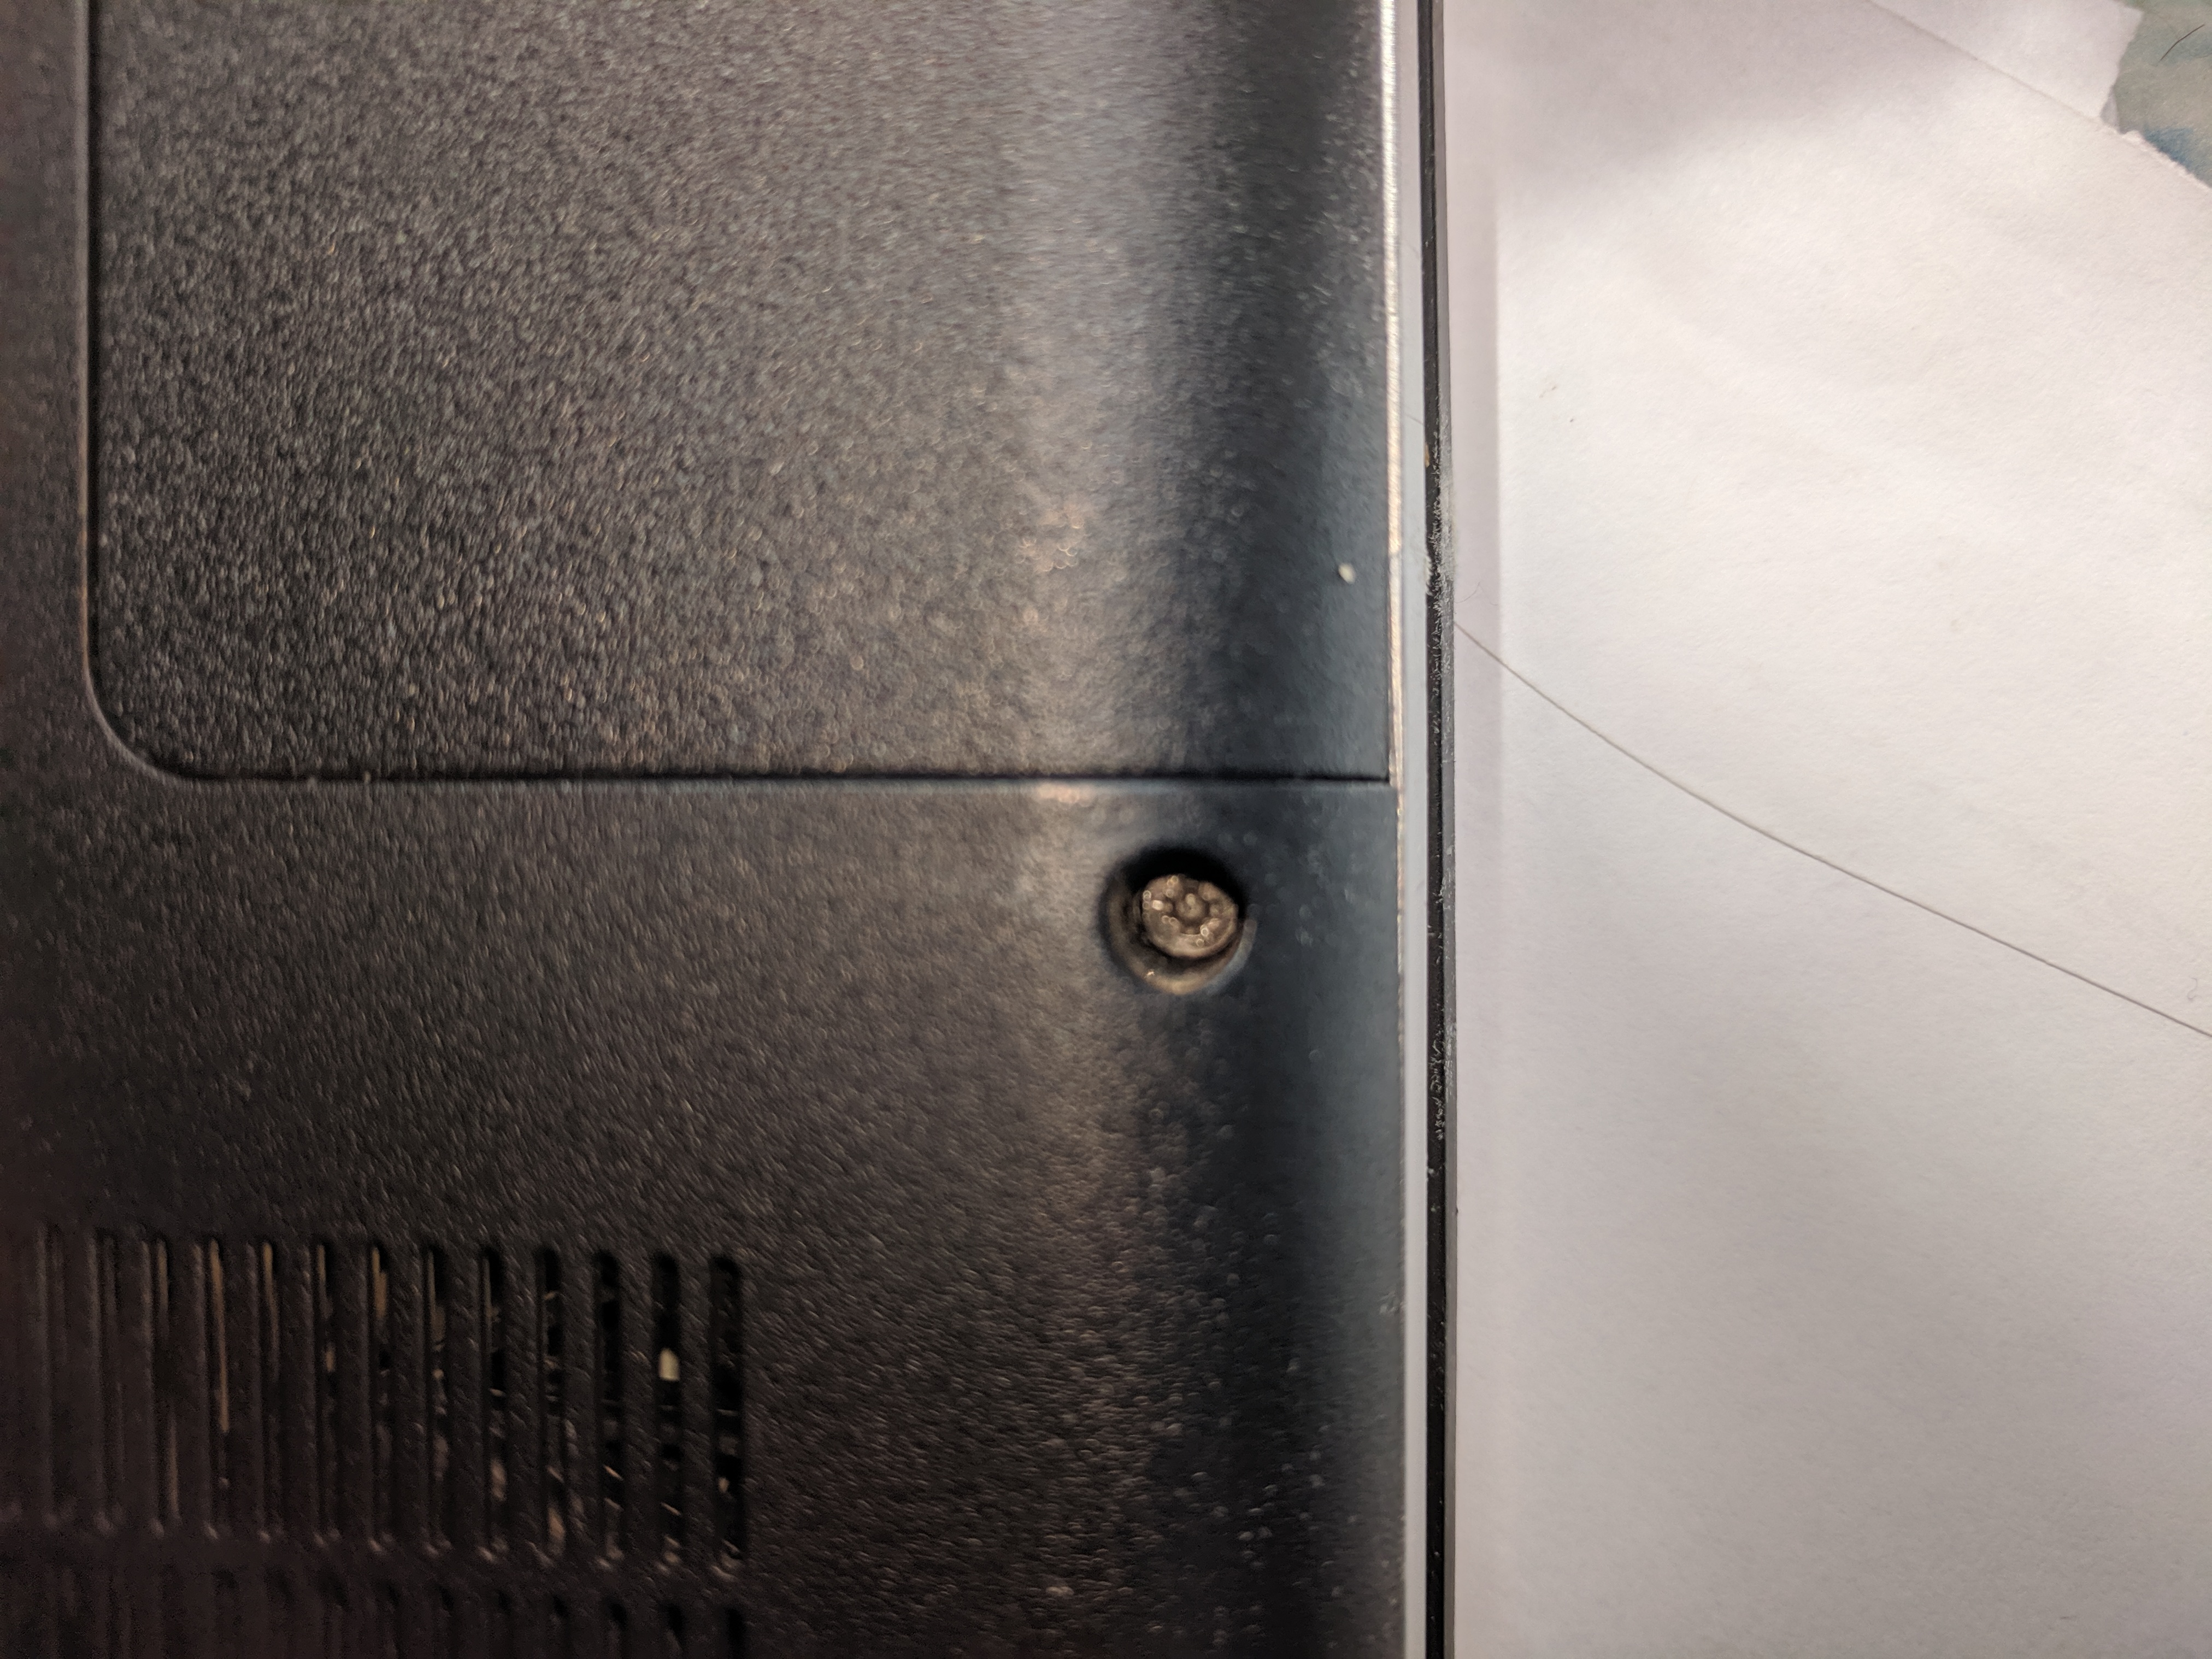cross_recessed_screw: (1120, 840, 1244, 971)
